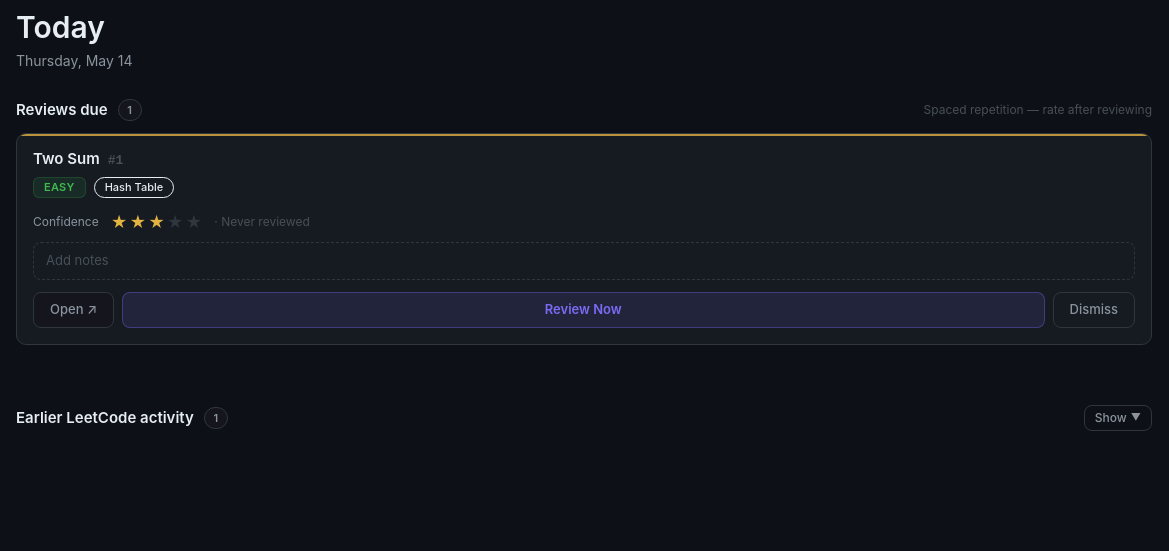
Test: TodayView earlier LeetCode activity › renders a collapsed section for an earlier submission and expands it
Expected: the heading "Earlier LeetCode activity" is shown, [16,406,194,429]
Click the button "Show ▼" at x=1118, y=418, box [1084,405,1152,431]
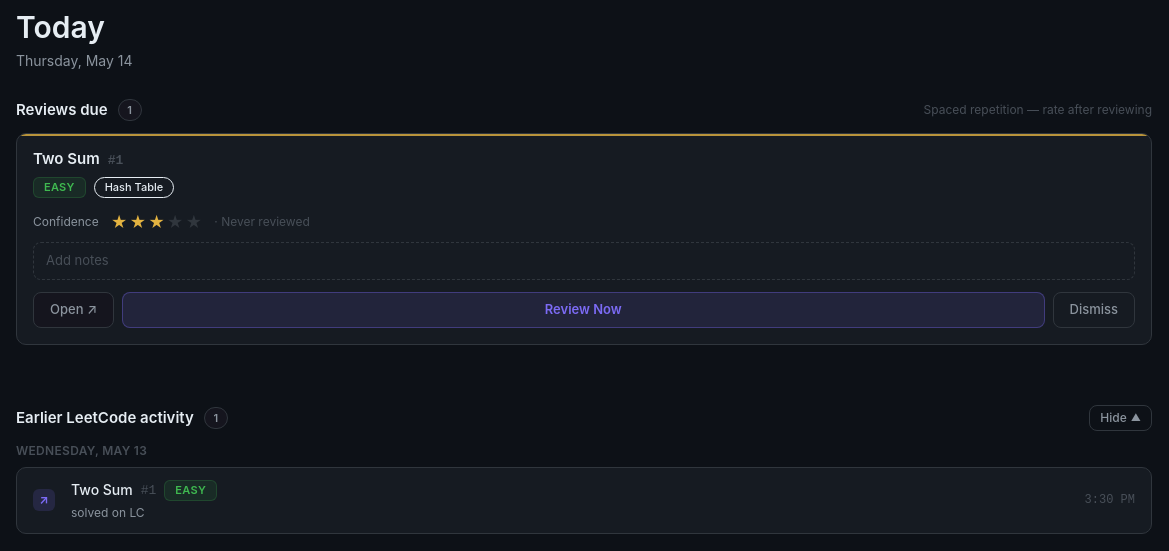
Expected: the text "Two Sum" is shown, [71,480,133,500]
